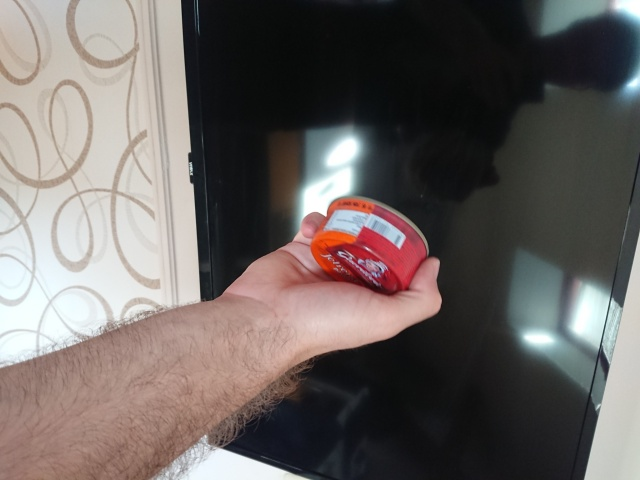Gavrilovic Pork Liver Pate 100g: (308, 193, 431, 298)
